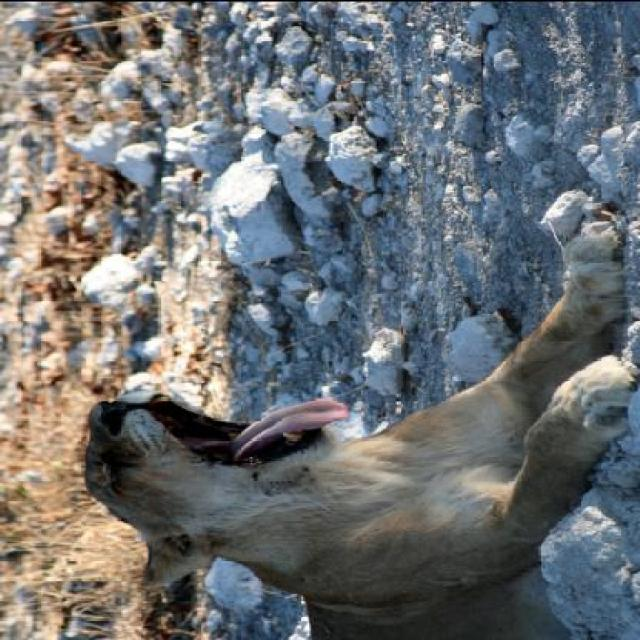Lion: (43, 181, 639, 637)
